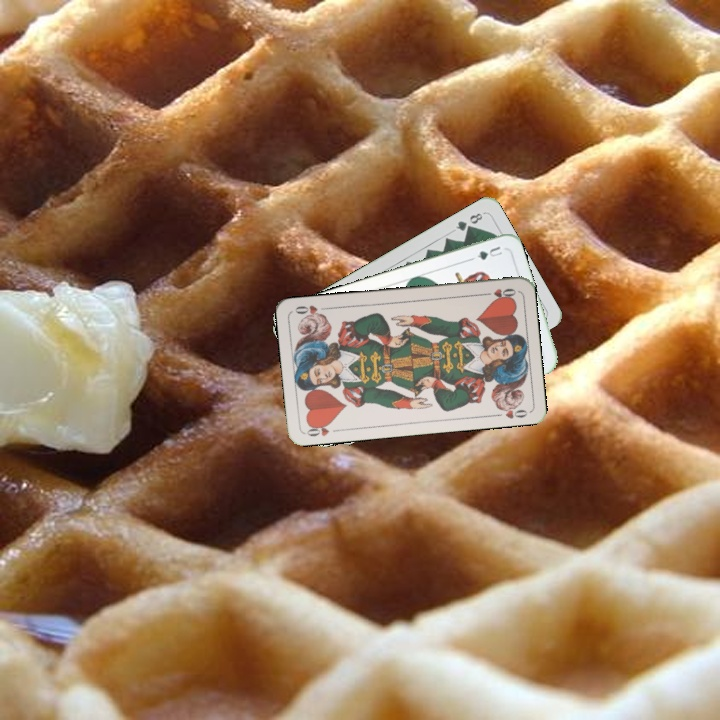G8: (452, 209, 485, 234)
GU: (473, 242, 505, 263)
HO: (478, 284, 518, 301), (303, 419, 334, 439)
